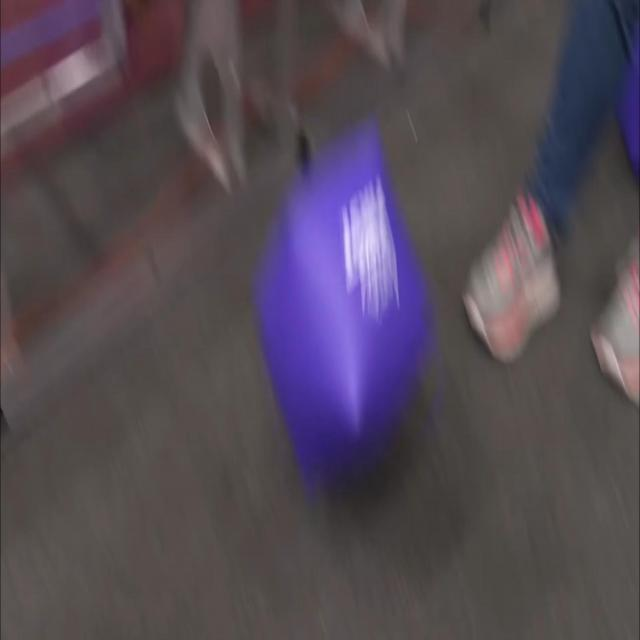frc_cube: (256, 123, 435, 490)
